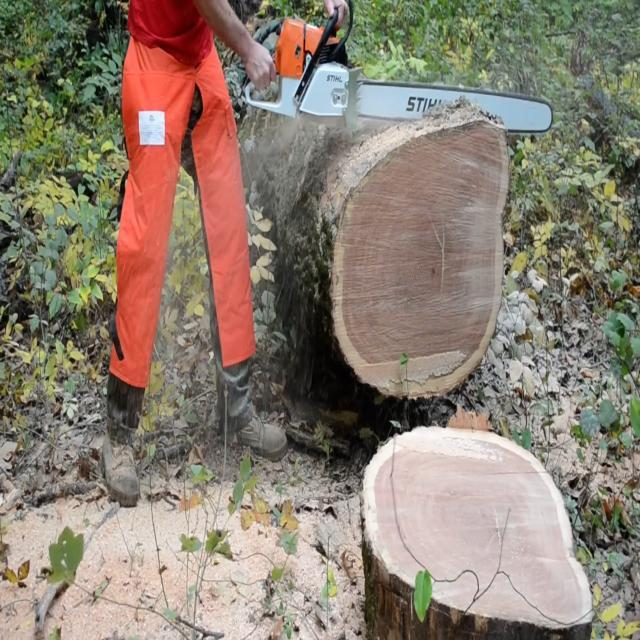Chainsaw: (226, 15, 558, 160)
